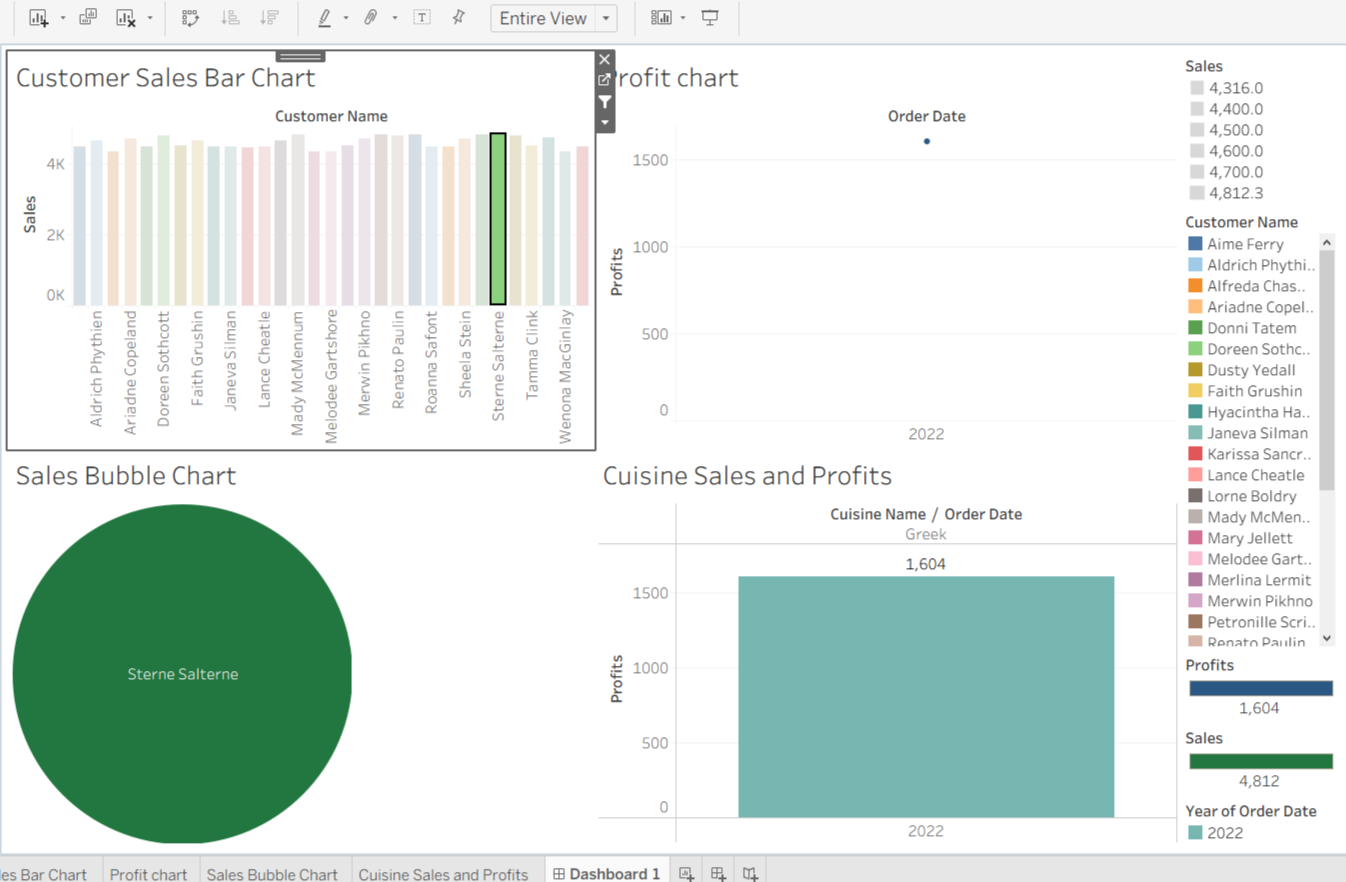

What the dashboard file says about the page in this screenshot:
{"tool":"tableau","page":{"name":"Dashboard 1","canvas":[1000,1000],"units":"permille","ordinal":0},"visuals":[{"type":"worksheet","title":"Customer Sales Bar Chart","mark":"Bar","rows":["Sales"],"cols":["Customer Name"],"box":[5.9,9.8,434.8,490.2]},{"type":"worksheet","title":"Profit chart","mark":"Line","rows":["Calculation_0535481881997312"],"cols":["Order Date"],"box":[440.7,9.8,434.8,490.2]},{"type":"legend","title":"Customer Sales Bar Chart","param":"[federated.1jub4d71qr3lcz1bow8yi0vnufec].[sum:Sales:qk]","box":[875.6,9.8,118.5,192.1]},{"type":"legend","title":"Customer Sales Bar Chart","param":"[federated.1jub4d71qr3lcz1bow8yi0vnufec].[none:Customer Name:nk]","box":[875.6,202,118.5,545.6]},{"type":"worksheet","title":"Sales Bubble Chart","mark":"Circle","box":[5.9,500,434.8,490.2]},{"type":"worksheet","title":"Cuisine Sales and Profits","mark":"Bar","rows":["Calculation_0535481881997312"],"cols":["Cuisine Name","Order Date"],"box":[440.7,500,434.8,490.2]},{"type":"legend","title":"Profit chart","param":"[federated.1jub4d71qr3lcz1bow8yi0vnufec].[usr:Calculation_0535481881997312:qk]","box":[875.6,747.5,118.5,89.9]},{"type":"legend","title":"Sales Bubble Chart","param":"[federated.1jub4d71qr3lcz1bow8yi0vnufec].[sum:Sales:qk]","box":[875.6,837.4,118.5,89.9]},{"type":"legend","title":"Cuisine Sales and Profits","param":"[federated.1jub4d71qr3lcz1bow8yi0vnufec].[yr:Order Date:ok]","box":[875.6,927.3,118.5,62.8]}]}

Visuals, with their boxes on the dashboard's canvas, which has no fixed pixel size, in thousandths of its width and height (x1, y1, x2, y2). These are canvas units, not pixel positions in the 1346x882 screenshot, which may show the page scaled, cropped or inside an application window:
"Customer Sales Bar Chart" worksheet (Bar marks): select_region(6, 10, 441, 500)
"Profit chart" worksheet (Line marks): select_region(441, 10, 876, 500)
"Customer Sales Bar Chart" legend: select_region(876, 10, 994, 202)
"Customer Sales Bar Chart" legend: select_region(876, 202, 994, 748)
"Sales Bubble Chart" worksheet (Circle marks): select_region(6, 500, 441, 990)
"Cuisine Sales and Profits" worksheet (Bar marks): select_region(441, 500, 876, 990)
"Profit chart" legend: select_region(876, 748, 994, 837)
"Sales Bubble Chart" legend: select_region(876, 837, 994, 927)
"Cuisine Sales and Profits" legend: select_region(876, 927, 994, 990)
